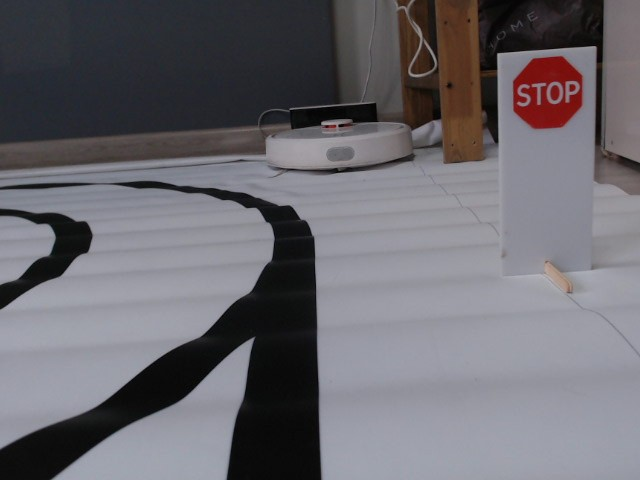Stop: (511, 55, 584, 131)
